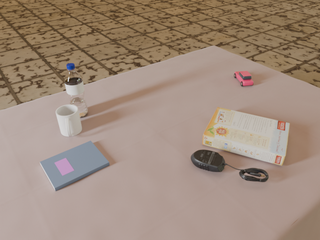book: (40, 141, 109, 191)
bottle: (64, 63, 88, 118)
box: (202, 107, 290, 166)
cup: (56, 104, 82, 136)
mouse: (191, 150, 228, 172)
toy_car: (234, 71, 253, 86)
